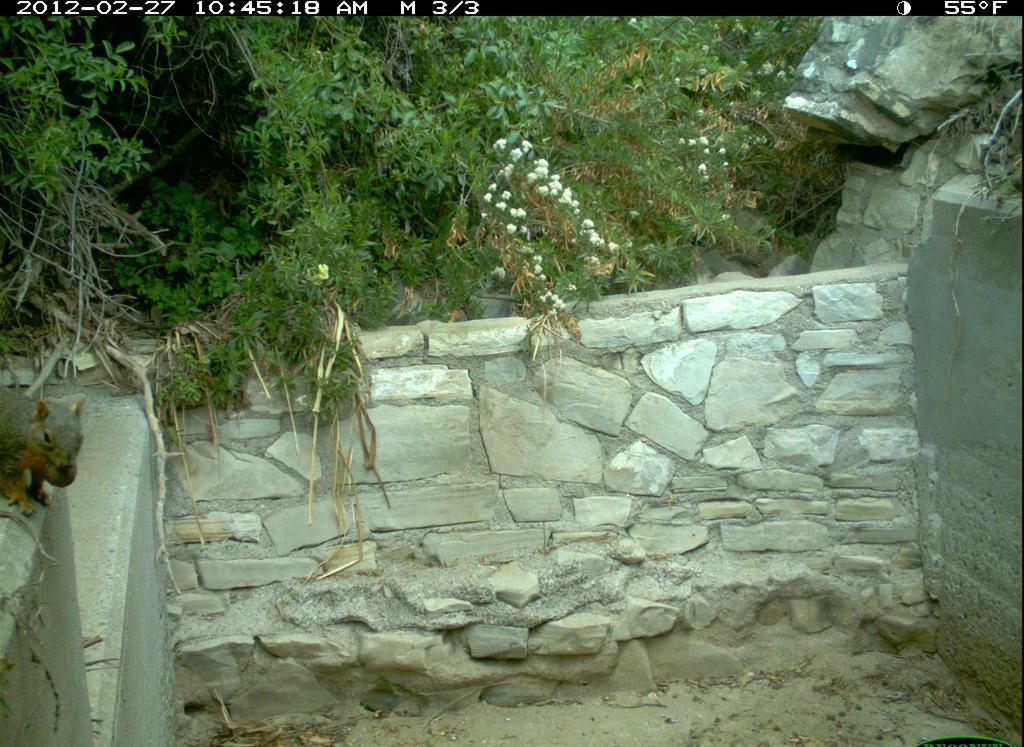squirrel: (1, 376, 91, 525)
